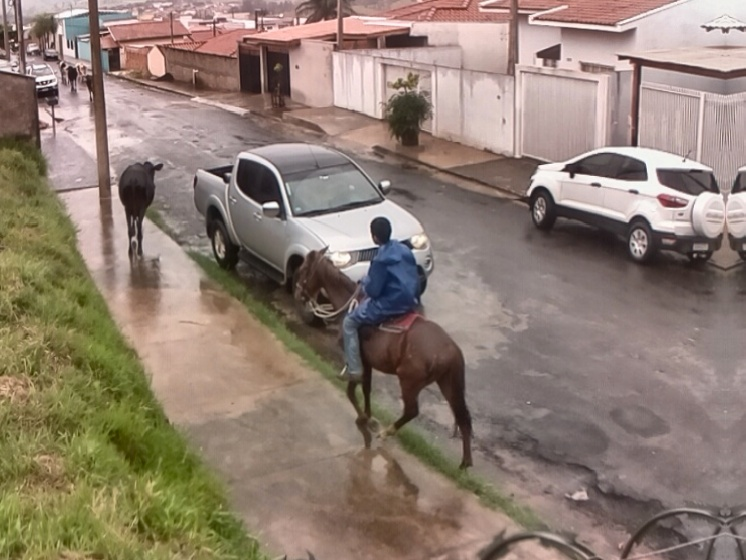person: (342, 213, 421, 384)
